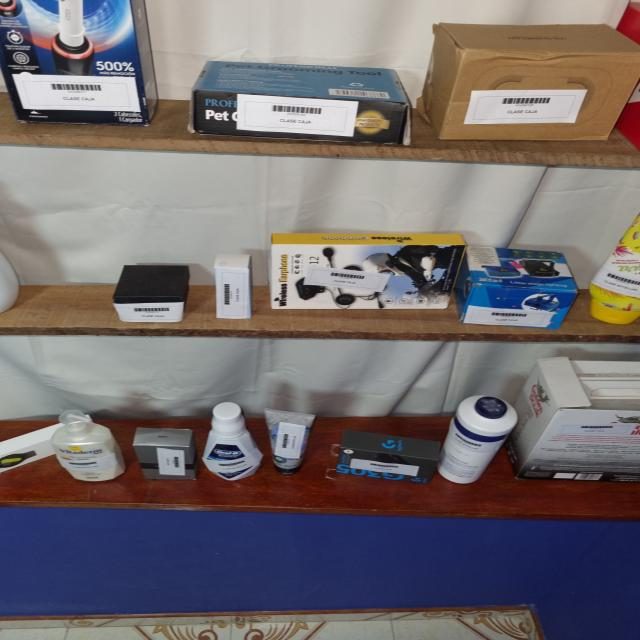botella: (437, 396, 518, 484), (592, 214, 640, 324), (51, 410, 125, 481), (203, 403, 263, 481), (265, 409, 316, 475), (0, 251, 20, 312)
caja: (423, 23, 640, 141), (189, 61, 410, 144), (508, 357, 640, 482), (269, 234, 465, 309), (455, 246, 578, 329), (336, 430, 440, 484), (113, 264, 190, 322), (132, 427, 198, 480), (0, 423, 59, 473), (214, 254, 252, 319)
